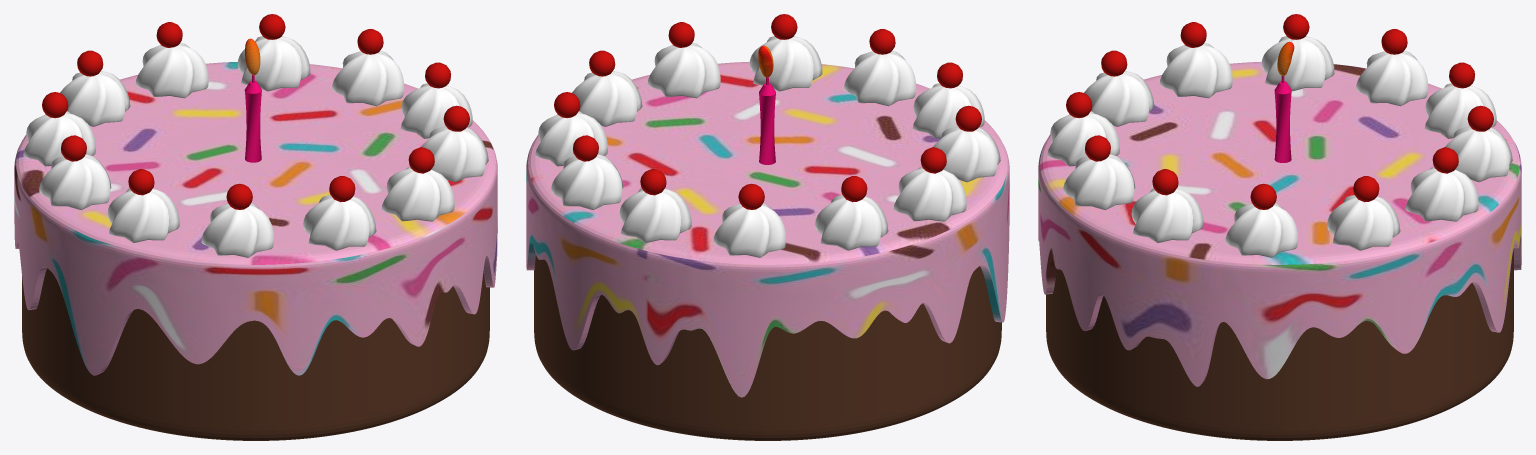
The model's file is uploads_files_3239605_Cake.obj.
3 views of the same model, side by side, from view 1: azimuth 30°, elevation 25°; view 2: azimuth 150°, elevation 25°; view 3: azimuth 270°, elevation 25° (orthographic).
Parts seen in each view (by area): view 1: Cream_Cylinder.001, Cake_Cylinder.004, Creams_Star.006, Cherry_Roundcube, Candel_Cylinder.002, Flame_Sphere; view 2: Cream_Cylinder.001, Cake_Cylinder.004, Creams_Star.006, Cherry_Roundcube, Candel_Cylinder.002; view 3: Cream_Cylinder.001, Cake_Cylinder.004, Creams_Star.006, Cherry_Roundcube, Candel_Cylinder.002.
Boxes of the visible parts, bbox=[...] form: Cream_Cylinder.001: bbox=[14, 62, 497, 375]; Cake_Cylinder.004: bbox=[22, 268, 489, 440]; Creams_Star.006: bbox=[23, 36, 488, 257]; Cherry_Roundcube: bbox=[42, 14, 469, 209]; Candel_Cylinder.002: bbox=[244, 75, 261, 162]; Flame_Sphere: bbox=[245, 38, 260, 75]; Cream_Cylinder.001: bbox=[526, 61, 1009, 397]; Cake_Cylinder.004: bbox=[534, 255, 1001, 440]; Creams_Star.006: bbox=[535, 36, 1000, 257]; Cherry_Roundcube: bbox=[554, 14, 981, 209]; Candel_Cylinder.002: bbox=[759, 77, 775, 164]; Cream_Cylinder.001: bbox=[1038, 61, 1521, 386]; Cake_Cylinder.004: bbox=[1046, 249, 1513, 440]; Creams_Star.006: bbox=[1047, 36, 1512, 257]; Cherry_Roundcube: bbox=[1066, 14, 1493, 209]; Candel_Cylinder.002: bbox=[1274, 76, 1291, 162].
Bounding box in the file's own units: 2.06 × 1.43 × 2.06.
